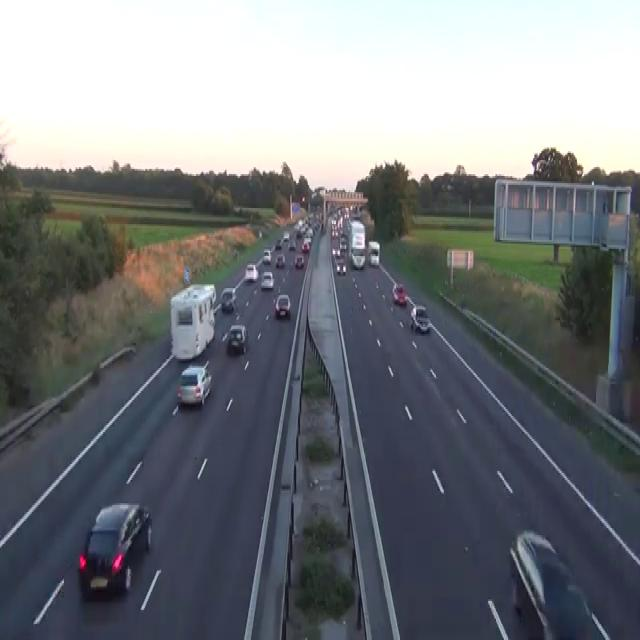Car: (508, 528, 611, 638), (78, 501, 152, 599), (92, 345, 136, 382), (176, 365, 212, 407), (221, 324, 248, 354), (409, 304, 430, 332), (220, 286, 237, 311), (274, 294, 291, 316), (350, 247, 365, 269), (392, 283, 406, 304), (260, 270, 274, 290), (245, 263, 258, 281), (336, 258, 346, 276), (262, 247, 271, 263), (294, 254, 304, 268), (275, 254, 285, 267), (339, 236, 347, 252), (301, 238, 310, 252), (288, 240, 296, 251), (332, 247, 340, 258), (232, 247, 238, 260), (275, 238, 282, 249), (233, 204, 241, 213), (446, 182, 453, 190), (283, 231, 289, 240), (275, 220, 280, 228), (258, 230, 262, 238), (301, 195, 305, 202)
Truck: (169, 283, 216, 361), (348, 218, 365, 268), (368, 240, 380, 267)
